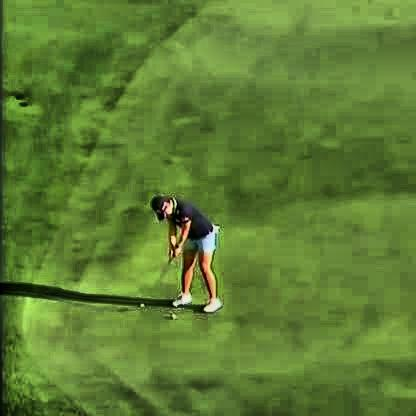golfball: (167, 309, 174, 319)
